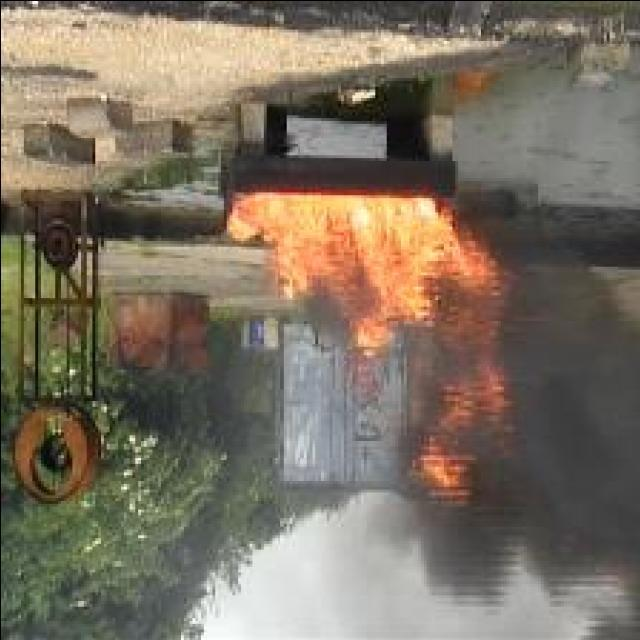Fire: (227, 192, 513, 504)
